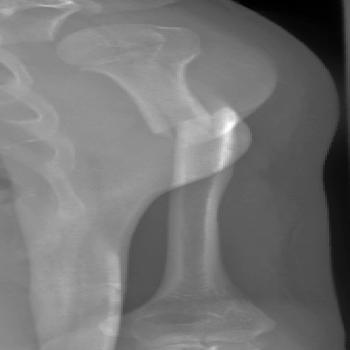Fracture: (144, 99, 250, 143)
